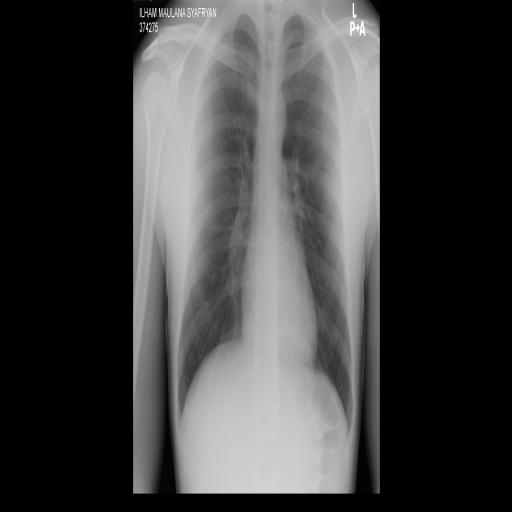normal: (170, 16, 356, 444)
